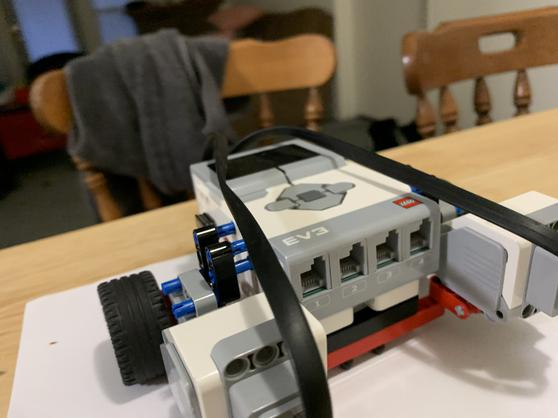robot: (83, 122, 558, 418)
